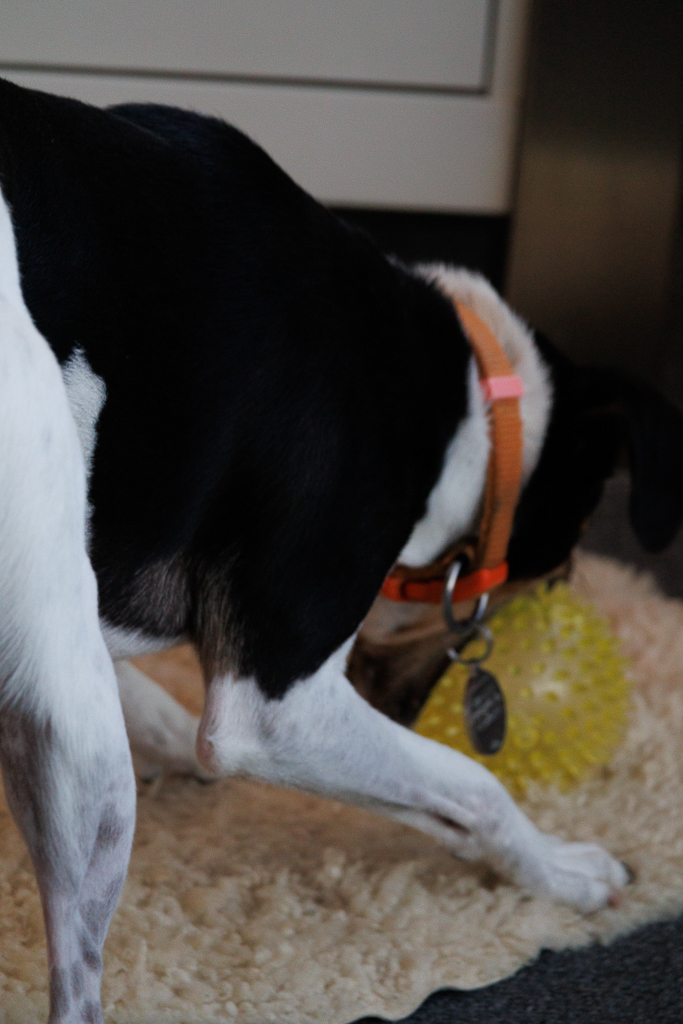Dog: (0, 63, 683, 1024)
